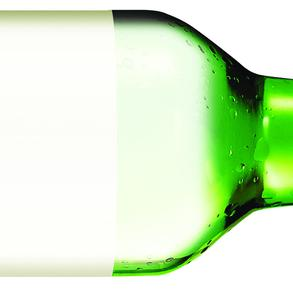soju: (1, 9, 292, 279)
